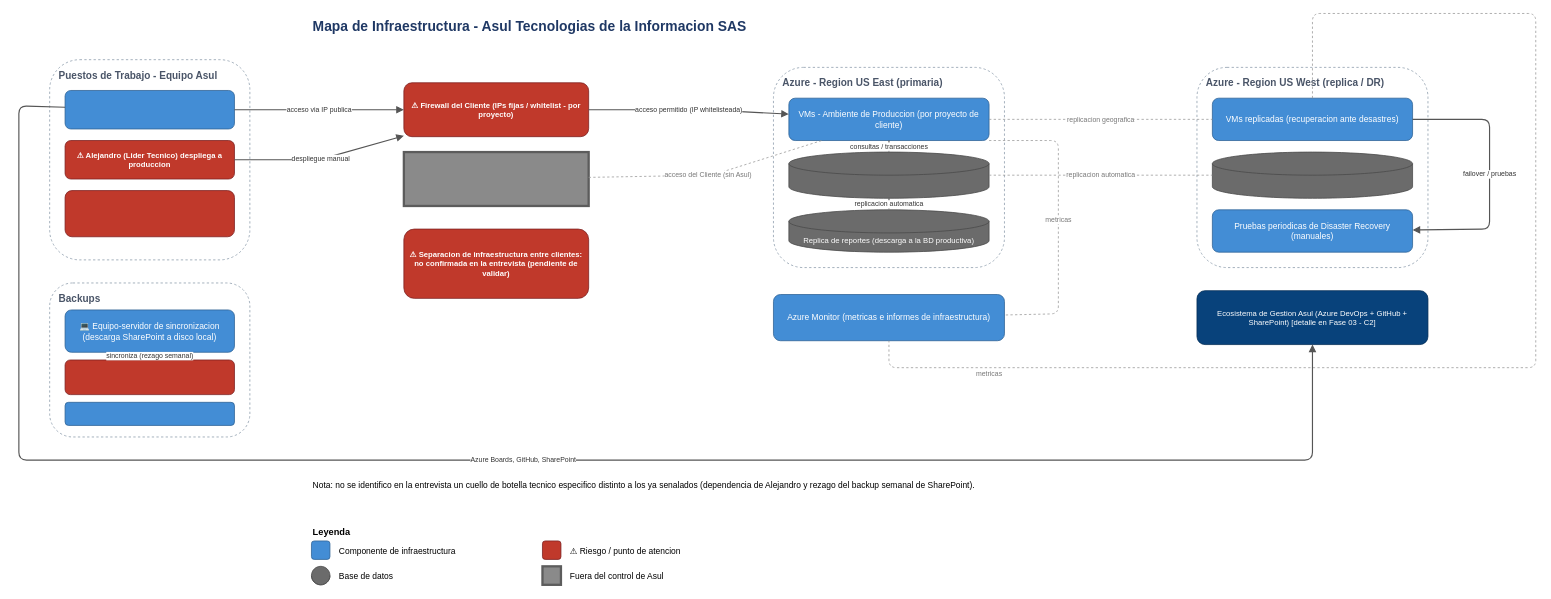
This 1551x599 diagram has some shape labels left out. The shapes that lost their labels are listed below. From the top down, each one's centre as x and y in pixels, then its label:
At (149,109): "💻 Computadores propios (cada desarrollador)".
At (495,179): "VPN del Cliente (uso exclusivo del Cliente - Asul SIN acceso)".
At (888,174): "Azure SQL Database (primaria)".
At (1312,174): "Azure SQL Database (replica disponible)".
At (149,213): "⚠ Despliegue depende de 1 persona (respaldo puntual: Leonardo, Ronald)".
At (149,377): "⚠ Copia semanal a disco externo (hasta 7 dias de perdida potencial)".
At (149,413): "Backup de codigo fuente (disco)".
